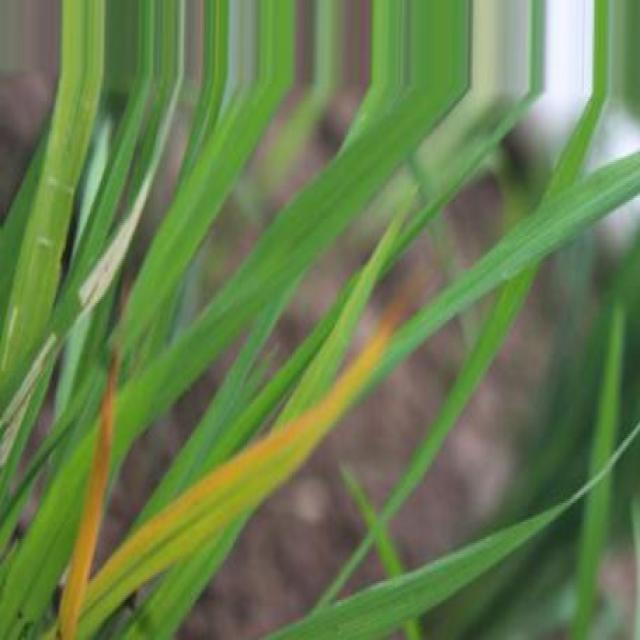Rice Tungro: (78, 322, 392, 637), (59, 352, 116, 638)
